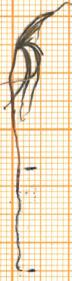flower: (5, 3, 59, 122)
root: (6, 169, 34, 273)
stem: (8, 49, 24, 169)
